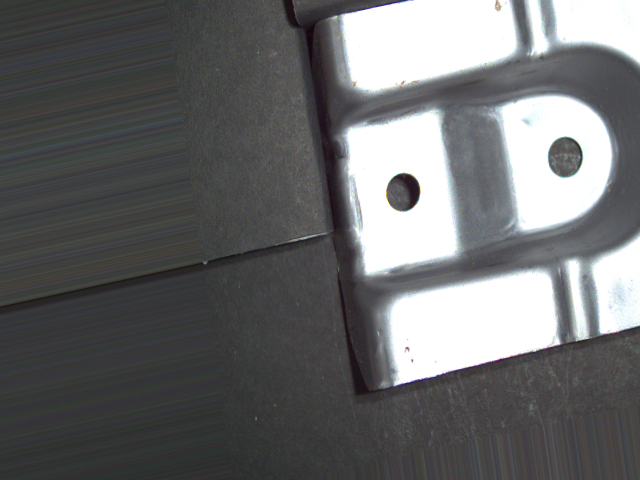defect: (538, 127, 588, 183)
